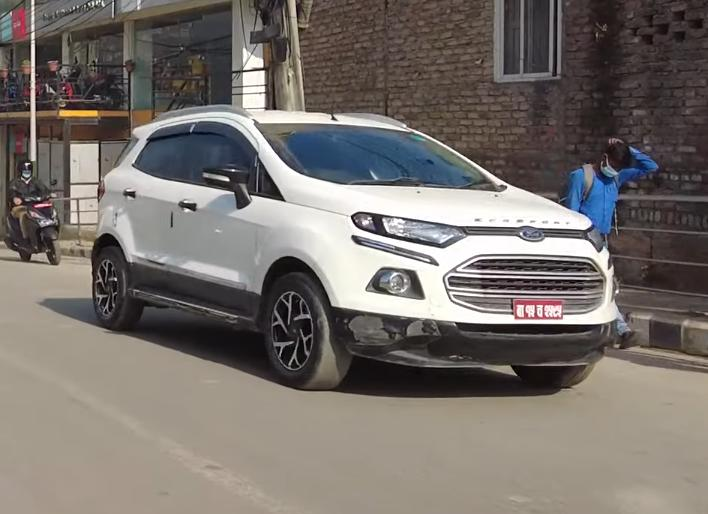car: (101, 99, 633, 386)
scooter: (0, 178, 66, 271)
